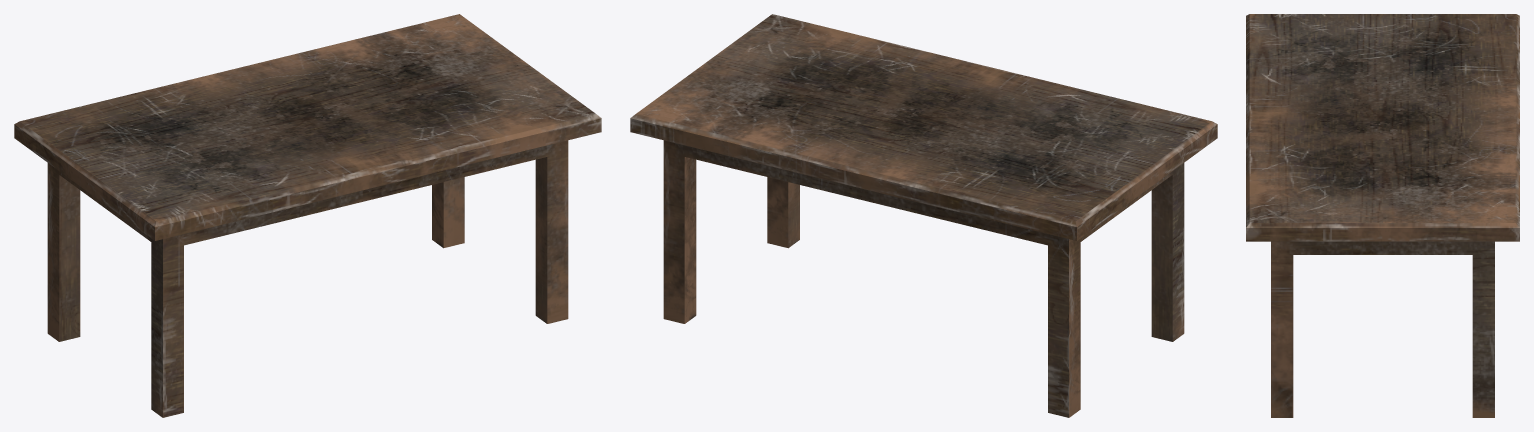
File: SM_Table_Bunker.glb
3 views of the same model, side by side, from view 1: azimuth 30°, elevation 25°; view 2: azimuth 150°, elevation 25°; view 3: azimuth 270°, elevation 25° (orthographic). The views are drawn at different scales.
Parts seen in each view (by area): view 1: SM_Table_Bunker; view 2: SM_Table_Bunker; view 3: SM_Table_Bunker.
Part boxes in pixels (x1,y1,x2,y2): SM_Table_Bunker: [14, 14, 601, 417]; SM_Table_Bunker: [630, 14, 1217, 417]; SM_Table_Bunker: [1246, 14, 1519, 417].
Size of the model in its own units: 1.96 by 0.8761 by 1.07.
1 material, 1 textured.
